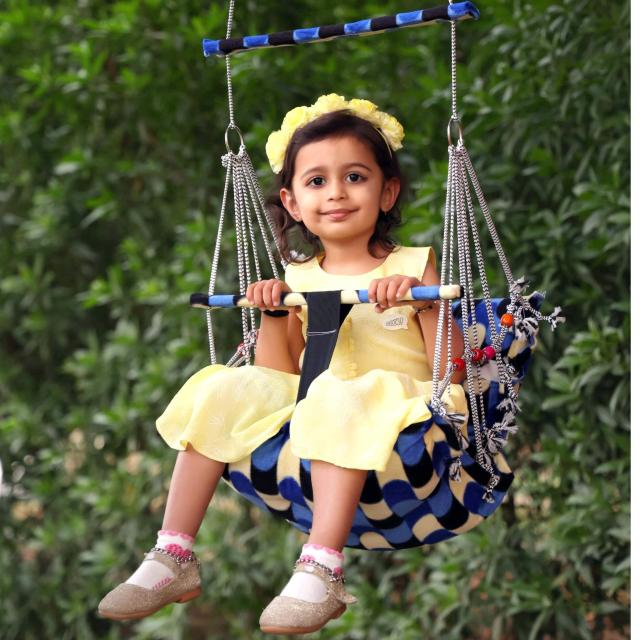child: (52, 84, 475, 640)
